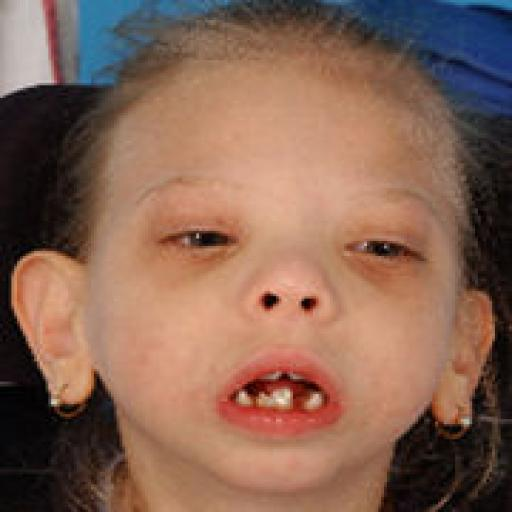Autism: (20, 10, 493, 508)
